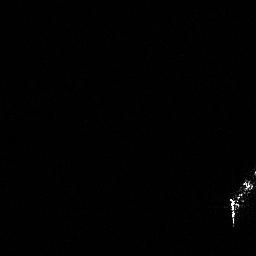ship: (225, 166, 256, 230)
